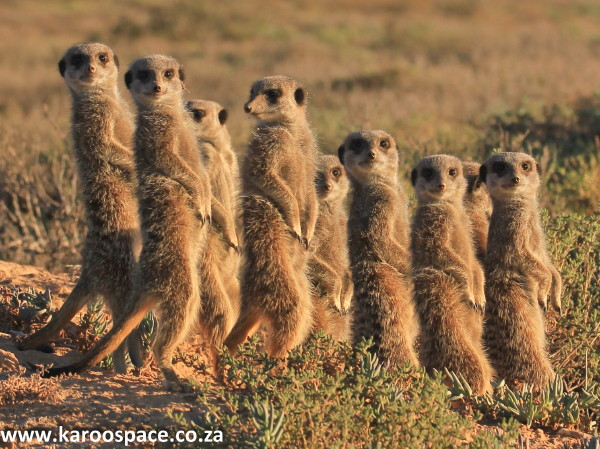meerkat: (50, 25, 165, 386), (221, 60, 329, 382), (469, 132, 567, 394)
